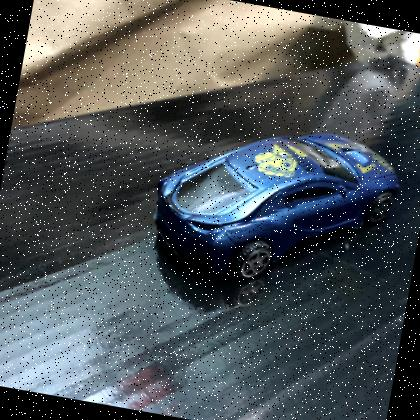Car: (154, 134, 400, 286)
